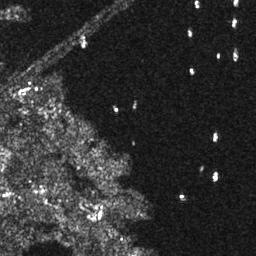ship: (78, 36, 89, 49), (211, 132, 219, 142), (212, 171, 219, 182), (232, 50, 239, 61), (231, 17, 238, 28), (113, 104, 119, 113), (189, 67, 195, 76), (193, 1, 200, 8), (188, 29, 193, 38), (216, 52, 221, 59), (233, 1, 239, 6)
